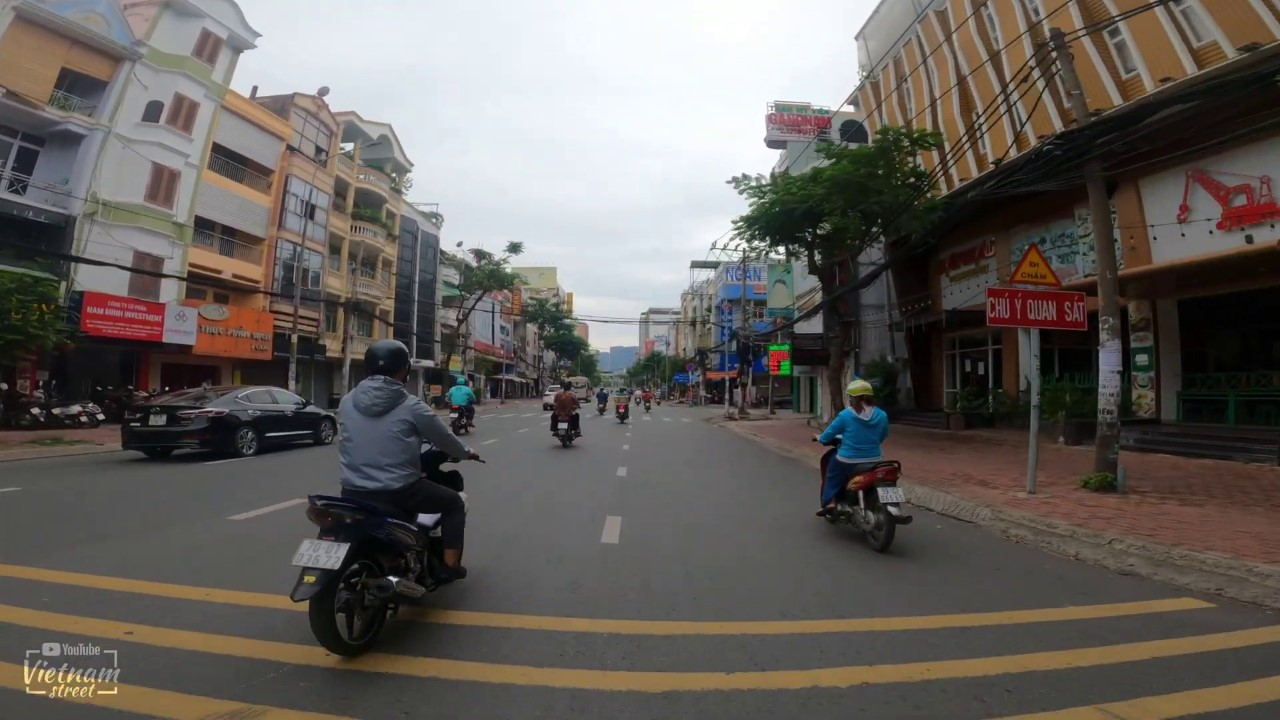di_cham: (1008, 242, 1061, 288)
